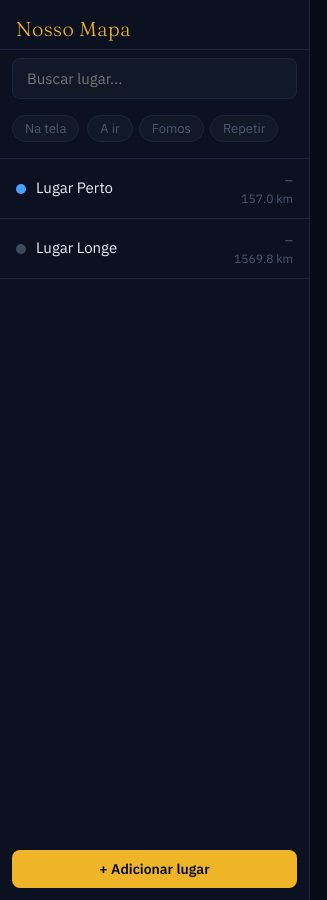
Scenario: ListPanel › shows "Nenhum lugar encontrado" when search matches nothing
The width and height of the screenshot is (327, 900).
Type "zzz" into the field with placeholder "Buscar lugar...". click: x=154, y=78
box: [12,58,297,99]
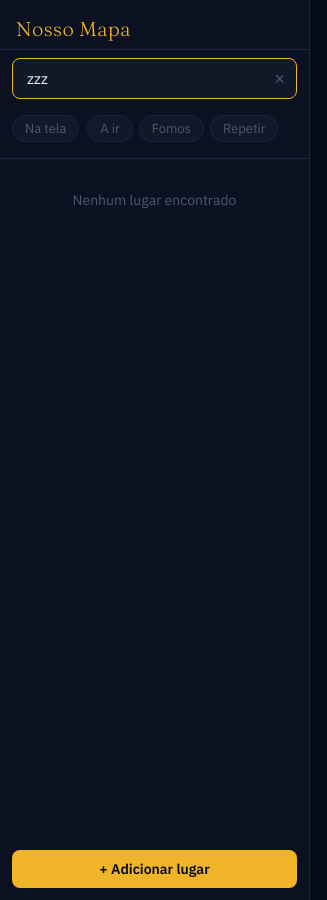
Now the text "Nenhum lugar encontrado" is shown, box [73,191,236,209]
